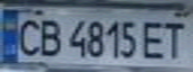1: (103, 17, 124, 59)
4: (63, 16, 87, 57)
5: (118, 17, 142, 60)
8: (84, 17, 106, 59)
B: (33, 16, 66, 58)
C: (12, 16, 45, 57)
E: (139, 17, 172, 61)
T: (157, 18, 193, 60)
